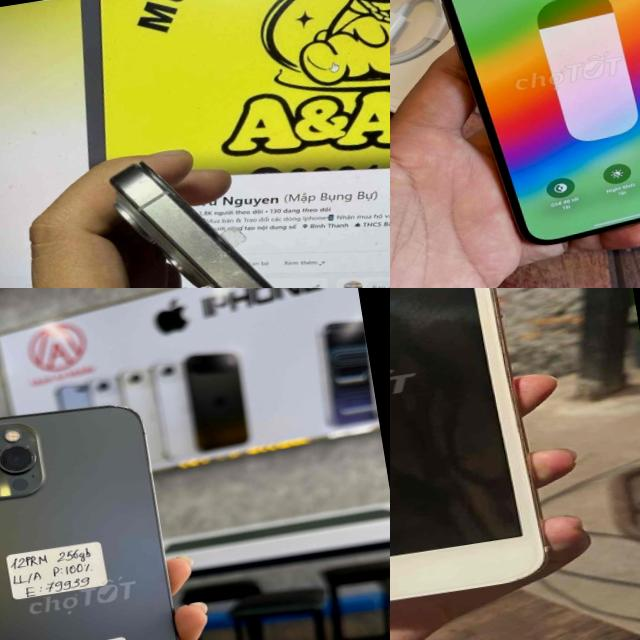gen_12_13: (0, 391, 199, 640)
gen_14: (403, 0, 640, 262)
gen_15: (66, 122, 357, 288)
gen_7_8: (390, 288, 564, 640)
